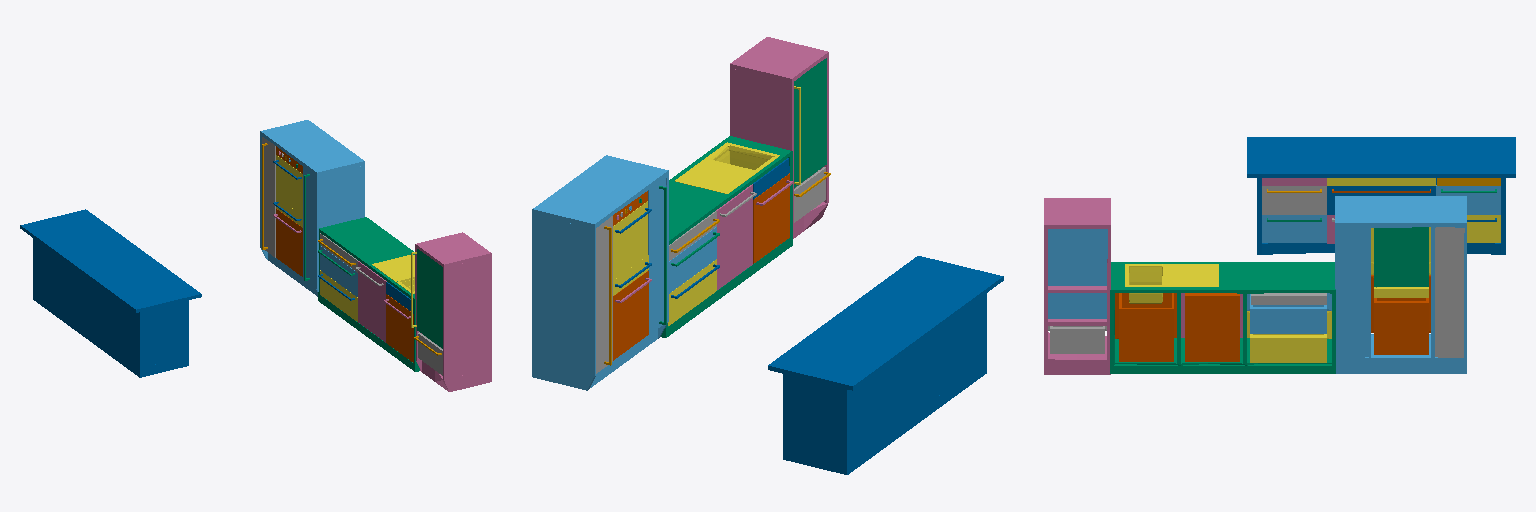
--- Render facts (derived) ---
Views: 3 orthographic renders of the robot side by side, from view 1: azimuth 30°, elevation 25°; view 2: azimuth 150°, elevation 25°; view 3: azimuth 270°, elevation 25°.
Robot: iai_oven_area — 60 links, 59 joints (8 revolute, 15 prismatic, 36 fixed); root link room_link; default pose: all joints at 0.
Links seen in each view (by area): view 1: kitchen_island, fridge_area, oven_area_area, sink_area, iai_fridge_door, sink_area_dish_washer_door, oven_area_area_left_drawer_main, sink_area_trash_drawer_main, oven_area_area_middle_lower_drawer_main, oven_area_area_right_drawer_main, oven_area_oven_door, sink_area_left_middle_drawer_main (+3 smaller); view 2: kitchen_island, oven_area_area, fridge_area, sink_area, iai_fridge_door, sink_area_sink, sink_area_dish_washer_door, sink_area_trash_drawer_main, oven_area_area_middle_lower_drawer_main, oven_area_area_right_drawer_main, oven_area_area_left_drawer_main, oven_area_oven_door (+5 smaller); view 3: kitchen_island, sink_area, oven_area_area, fridge_area, iai_fridge_main, oven_area_area_right_drawer_main, sink_area_dish_washer_main, oven_area_area_left_drawer_main, sink_area_trash_drawer_main, oven_area_area_middle_lower_drawer_main, oven_area_oven_main, sink_area_sink (+11 smaller).
Link boxes in pixels (x1,y1,x2,y2): kitchen_island: (20, 209, 201, 377); fridge_area: (415, 232, 491, 391); oven_area_area: (260, 120, 364, 296); sink_area: (318, 217, 419, 371); iai_fridge_door: (417, 249, 442, 348); sink_area_dish_washer_door: (358, 261, 386, 342); oven_area_area_left_drawer_main: (262, 137, 275, 257); sink_area_trash_drawer_main: (386, 294, 413, 362); oven_area_area_middle_lower_drawer_main: (276, 209, 302, 276); oven_area_area_right_drawer_main: (303, 167, 315, 286); oven_area_oven_door: (276, 155, 302, 215); sink_area_left_middle_drawer_main: (320, 246, 357, 296); kitchen_island: (768, 256, 1003, 474); oven_area_area: (532, 155, 668, 390); fridge_area: (730, 37, 828, 238); sink_area: (661, 136, 792, 337); iai_fridge_door: (794, 58, 826, 187); sink_area_sink: (675, 142, 779, 193); sink_area_dish_washer_door: (716, 184, 752, 289); sink_area_trash_drawer_main: (753, 173, 789, 263); oven_area_area_middle_lower_drawer_main: (613, 271, 648, 360); oven_area_area_right_drawer_main: (648, 178, 665, 334); oven_area_area_left_drawer_main: (596, 216, 612, 373); oven_area_oven_door: (613, 201, 647, 280); kitchen_island: (1247, 137, 1515, 254); sink_area: (1110, 262, 1335, 373); oven_area_area: (1335, 196, 1466, 373); fridge_area: (1044, 198, 1110, 374); iai_fridge_main: (1048, 229, 1107, 318); oven_area_area_right_drawer_main: (1338, 228, 1368, 357); sink_area_dish_washer_main: (1185, 293, 1239, 361); oven_area_area_left_drawer_main: (1435, 227, 1464, 357); sink_area_trash_drawer_main: (1115, 293, 1176, 361); oven_area_area_middle_lower_drawer_main: (1371, 275, 1430, 354); oven_area_oven_main: (1374, 227, 1428, 286); sink_area_sink: (1125, 264, 1218, 303).
Size in the robot's own frame: 3.3 by 4.31 by 1.53 metres.
55 mesh visuals loaded from 28 distinct referenced files (28 OBJ).

robot.urdf — iai_oven_area:
<?xml version="1.0" ?>
<!-- =================================================================================== -->
<!-- |    This document was autogenerated by xacro from IAI_kitchen.urdf.xacro         | -->
<!-- |    EDITING THIS FILE BY HAND IS NOT RECOMMENDED                                 | -->
<!-- =================================================================================== -->
<robot name="iai_oven_area" xmlns:xacro="http://ros.org/wiki/xacro">
  <link name="room_link">    
  </link>
  <!--- FIXME THIS should NOT be here -->
  <link name="sink_area_footprint">
    <sphere_inertia mass="0" radius="0"/>
  </link>
  <link name="sink_area">
    <sphere_inertia mass="0" radius="0"/>
    <visual>
      <origin rpy="0 0 0" xyz="0 0 0"/>
      <geometry>
        <mesh filename="package://iai_kitchen/meshes/racks/SinkArea.obj"/>
      </geometry>
    </visual>
  </link>
  <joint name="sink_area_footprint_joint" type="fixed">
    <origin rpy="0 0 3.14159265359" xyz="1.825 1.3 0"/>
    <child link="sink_area_footprint"/>
    <parent link="room_link"/>
  </joint>
  <joint name="sink_area_main_joint" type="fixed">
    <origin rpy="0 0 0" xyz="0.29 1.03 0.41"/>
    <parent link="sink_area_footprint"/>
    <child link="sink_area"/>
  </joint>
  <link name="sink_area_sink">
    <sphere_inertia mass="0" radius="0"/>
    <visual>
      <origin rpy="0 0 0" xyz="0 0 0"/>
      <geometry>
        <mesh filename="package://iai_kitchen/meshes/misc/Sink.obj"/>
      </geometry>
    </visual>
  </link>
  <joint name="sink_area_sink_joint" type="fixed">
    <origin rpy="0 0 0" xyz="0.005 0.47 0.4414"/>
    <parent link="sink_area"/>
    <child link="sink_area_sink"/>
  </joint>
  <link name="sink_area_right_panel">
    <sphere_inertia mass="0" radius="0"/>
    <visual>
      <origin rpy="0 0 0" xyz="0 0 0"/>
      <geometry>
        <mesh filename="package://iai_kitchen/meshes/drawers/Panel_60.obj"/>
      </geometry>
    </visual>
  </link>
  <joint name="sink_area_right_panel_joint" type="fixed">
    <origin rpy="0 0 0" xyz="0.28 0.7 0.325 "/>
    <parent link="sink_area"/>
    <child link="sink_area_right_panel"/>
  </joint>
  <link name="sink_area_trash_drawer_main">
    <sphere_inertia mass="0" radius="0"/>
    <visual>
      <origin rpy="0 0 0" xyz="0 0 0"/>
      <geometry>
        <mesh filename="package://iai_kitchen/meshes/drawers/Drawer_60_58.obj"/>
      </geometry>
    </visual>
  </link>
  <link name="sink_area_trash_drawer_handle">
    <sphere_inertia mass="0" radius="0"/>
    <visual>
      <origin rpy="0 0 0" xyz="0 0 0"/>
      <geometry>
        <mesh filename="package://iai_kitchen/meshes/handles/Handle60.obj"/>
      </geometry>
    </visual>
  </link>
  <joint name="sink_area_trash_drawer_main_joint" type="prismatic">
    <origin rpy="0 0 0" xyz="0.01 0.7 -0.035 "/>
    <parent link="sink_area"/>
    <child link="sink_area_trash_drawer_main"/>
    <axis xyz="1. 0. 0.0"/>
    <limit effort="300" lower="0" upper="0.48" velocity="10"/>
  </joint>
  <joint name="sink_area_trash_drawer_handle_joint" type="fixed">
    <origin rpy="0 0 0" xyz="0.3325 0 0.2375"/>
    <parent link="sink_area_trash_drawer_main"/>
    <child link="sink_area_trash_drawer_handle"/>
    <axis xyz="0 0 1"/>
    <limit effort="300" lower="0" upper="1.57079632679" velocity="10"/>
  </joint>
  <link name="sink_area_left_upper_drawer_main">
    <sphere_inertia mass="0" radius="0"/>
    <visual>
      <origin rpy="0 0 0" xyz="0 0 0"/>
      <geometry>
        <mesh filename="package://iai_kitchen/meshes/drawers/Drawer_80_14.obj"/>
      </geometry>
    </visual>
  </link>
  <link name="sink_area_left_upper_drawer_handle">
    <sphere_inertia mass="0" radius="0"/>
    <visual>
      <origin rpy="0 0 0" xyz="0 0 0"/>
      <geometry>
        <mesh filename="package://iai_kitchen/meshes/handles/Handle80.obj"/>
      </geometry>
    </visual>
  </link>
  <joint name="sink_area_left_upper_drawer_main_joint" type="prismatic">
    <origin rpy="0 0 0" xyz="0.01 -0.6 0.325 "/>
    <parent link="sink_area"/>
    <child link="sink_area_left_upper_drawer_main"/>
    <axis xyz="1. 0. 0.0"/>
    <limit effort="300" lower="0" upper="0.48" velocity="10"/>
  </joint>
  <joint name="sink_area_left_upper_drawer_handle_joint" type="fixed">
    <origin rpy="0 0 0" xyz="0.3325 0 0.0175"/>
    <parent link="sink_area_left_upper_drawer_main"/>
    <child link="sink_area_left_upper_drawer_handle"/>
    <axis xyz="0 0 1"/>
    <limit effort="300" lower="0" upper="1.57079632679" velocity="10"/>
  </joint>
  <link name="sink_area_left_middle_drawer_main">
    <sphere_inertia mass="0" radius="0"/>
    <visual>
      <origin rpy="0 0 0" xyz="0 0 0"/>
      <geometry>
        <mesh filename="package://iai_kitchen/meshes/drawers/Drawer_80_29.obj"/>
      </geometry>
    </visual>
  </link>
  <link name="sink_area_left_middle_drawer_handle">
    <sphere_inertia mass="0" radius="0"/>
    <visual>
      <origin rpy="0 0 0" xyz="0 0 0"/>
      <geometry>
        <mesh filename="package://iai_kitchen/meshes/handles/Handle80.obj"/>
      </geometry>
    </visual>
  </link>
  <joint name="sink_area_left_middle_drawer_main_joint" type="prismatic">
    <origin rpy="0 0 0" xyz="0.01 -0.6 0.11 "/>
    <parent link="sink_area"/>
    <child link="sink_area_left_middle_drawer_main"/>
    <axis xyz="1. 0. 0.0"/>
    <limit effort="300" lower="0" upper="0.48" velocity="10"/>
  </joint>
  <joint name="sink_area_left_middle_drawer_handle_joint" type="fixed">
    <origin rpy="0 0 0" xyz="0.3325 0 0.11"/>
    <parent link="sink_area_left_middle_drawer_main"/>
    <child link="sink_area_left_middle_drawer_handle"/>
    <axis xyz="0 0 1"/>
    <limit effort="300" lower="0" upper="1.57079632679" velocity="10"/>
  </joint>
  <link name="sink_area_left_bottom_drawer_main">
    <sphere_inertia mass="0" radius="0"/>
    <visual>
      <origin rpy="0 0 0" xyz="0 0 0"/>
      <geometry>
        <mesh filename="package://iai_kitchen/meshes/drawers/Drawer_80_29.obj"/>
      </geometry>
    </visual>
  </link>
  <link name="sink_area_left_bottom_drawer_handle">
    <sphere_inertia mass="0" radius="0"/>
    <visual>
      <origin rpy="0 0 0" xyz="0 0 0"/>
      <geometry>
        <mesh filename="package://iai_kitchen/meshes/handles/Handle80.obj"/>
      </geometry>
    </visual>
  </link>
  <joint name="sink_area_left_bottom_drawer_main_joint" type="prismatic">
    <origin rpy="0 0 0" xyz="0.01 -0.6 -0.18 "/>
    <parent link="sink_area"/>
    <child link="sink_area_left_bottom_drawer_main"/>
    <axis xyz="1. 0. 0.0"/>
    <limit effort="300" lower="0" upper="0.48" velocity="10"/>
  </joint>
  <joint name="sink_area_left_bottom_drawer_handle_joint" type="fixed">
    <origin rpy="0 0 0" xyz="0.3325 0 0.11"/>
    <parent link="sink_area_left_bottom_drawer_main"/>
    <child link="sink_area_left_bottom_drawer_handle"/>
    <axis xyz="0 0 1"/>
    <limit effort="300" lower="0" upper="1.57079632679" velocity="10"/>
  </joint>
  <link name="sink_area_dish_washer_main">
    <sphere_inertia mass="0" radius="0"/>
    <visual>
      <origin rpy="0 0 0" xyz="0 0 0"/>
      <geometry>
        <mesh filename="package://iai_kitchen/meshes/misc/DishWasher.obj"/>
      </geometry>
    </visual>
  </link>
  <link name="sink_area_dish_washer_door">
    <sphere_inertia mass="0" radius="0"/>
    <visual>
      <origin rpy="1.57079632679 0 0" xyz="0 0 0"/>
      <geometry>
        <mesh filename="package://iai_kitchen/meshes/misc/DishWasherDoor.obj"/>
      </geometry>
    </visual>
  </link>
  <link name="sink_area_dish_washer_door_handle">
    <sphere_inertia mass="0" radius="0"/>
    <visual>
      <origin rpy="0 0 0" xyz="0 0 0"/>
      <geometry>
        <mesh filename="package://iai_kitchen/meshes/handles/Handle60.obj"/>
      </geometry>
    </visual>
  </link>
  <joint name="sink_area_dish_washer_main_joint" type="fixed">
    <origin rpy="0 0 0" xyz="0.01 0.1 0.035 "/>
    <parent link="sink_area"/>
    <child link="sink_area_dish_washer_main"/>
  </joint>
  <joint name="sink_area_dish_washer_door_joint" type="revolute">
    <origin rpy="-1.57079632679 0 0" xyz="0.27 0. -0.325"/>
    <parent link="sink_area_dish_washer_main"/>
    <child link="sink_area_dish_washer_door"/>
    <axis xyz="0 0 1"/>
    <limit effort="300" lower="0" upper="1.57079632679" velocity="10"/>
  </joint>
  <joint name="sink_area_dish_washer_door_handle_joint" type="fixed">
    <origin rpy="-1.57079632679 0 0" xyz="0.0625 -0.6325 0."/>
    <parent link="sink_area_dish_washer_door"/>
    <child link="sink_area_dish_washer_door_handle"/>
  </joint>
  <link name="oven_area_area_footprint">
    <sphere_inertia mass="0" radius="0"/>
  </link>
  <link name="oven_area_area">
    <sphere_inertia mass="0" radius="0"/>
    <visual>
      <origin rpy="0 0 0" xyz="0 0 0"/>
      <geometry>
        <mesh filename="package://iai_kitchen/meshes/racks/OvenArea.obj"/>
      </geometry>
    </visual>
  </link>
  <joint name="oven_area_footprint_joint" type="fixed">
    <origin rpy="0 0 3.14159265359" xyz="1.805 2.5 0"/>
    <child link="oven_area_area_footprint"/>
    <parent link="room_link"/>
  </joint>
  <joint name="oven_area_main_joint" type="fixed">
    <origin rpy="0 0 0" xyz="0.29 0.6 0.755"/>
    <parent link="oven_area_area_footprint"/>
    <child link="oven_area_area"/>
  </joint>
  <link name="oven_area_oven_main">
    <sphere_inertia mass="0" radius="0"/>
    <visual>
      <origin rpy="0 0 0" xyz="0 0 0"/>
      <geometry>
        <mesh filename="package://iai_kitchen/meshes/oven/OvenMain.obj"/>
      </geometry>
    </visual>
  </link>
  <link name="oven_area_oven_door">
    <sphere_inertia mass="0" radius="0"/>
    <visual>
      <origin rpy="1.57079632679 0 0" xyz="0 0 0"/>
      <geometry>
        <mesh filename="package://iai_kitchen/meshes/oven/OvenDoor.obj"/>
      </geometry>
    </visual>
  </link>
  <link name="oven_area_oven_door_handle">
    <sphere_inertia mass="0" radius="0"/>
    <visual>
      <origin rpy="0 0 0" xyz="0 0 0"/>
      <geometry>
        <mesh filename="package://iai_kitchen/meshes/handles/Handle60.obj"/>
      </geometry>
    </visual>
  </link>
  <link name="oven_area_oven_panel">
    <sphere_inertia mass="0" radius="0"/>
    <visual>
      <origin rpy="0 0 0" xyz="0 0 0"/>
      <geometry>
        <mesh filename="package://iai_kitchen/meshes/oven/OvenPanel.obj"/>
      </geometry>
    </visual>
  </link>
  <joint name="oven_area_oven_main_joint" type="fixed">
    <origin rpy="0 0 0" xyz="0.0 0.0 0.415"/>
    <parent link="oven_area_area"/>
    <child link="oven_area_oven_main"/>
  </joint>
  <joint name="oven_area_oven_door_joint" type="revolute">
    <origin rpy="-1.57079632679 0 0" xyz="0.2737 0. -0.2614"/>
    <parent link="oven_area_oven_main"/>
    <child link="oven_area_oven_door"/>
    <axis xyz="0 0 1"/>
    <limit effort="300" lower="0" upper="1.57079632679" velocity="10"/>
  </joint>
  <joint name="oven_area_oven_door_handle_joint" type="fixed">
    <origin rpy="-1.57079632679 0 0" xyz="0.05876 -0.39803 0."/>
    <parent link="oven_area_oven_door"/>
    <child link="oven_area_oven_door_handle"/>
    <axis xyz="0 0 1"/>
    <limit effort="300" lower="0" upper="1.57079632679" velocity="10"/>
  </joint>
  <joint name="oven_area_oven_panel_joint" type="fixed">
    <origin rpy="0 0 0" xyz="0.27 0 0.2449"/>
    <parent link="oven_area_oven_main"/>
    <child link="oven_area_oven_panel"/>
  </joint>
  <link name="oven_area_oven_knob_stove_1">
    <sphere_inertia mass="0" radius="0"/>
    <visual>
      <origin rpy="0 1.57079632679 0" xyz="0 0 0"/>
      <geometry>
        <mesh filename="package://iai_kitchen/meshes/oven/Knob.obj"/>
      </geometry>
    </visual>
  </link>
  <joint name="oven_area_oven_knob_stove_1_joint" type="revolute">
    <origin rpy="0 -1.57079632679 0" xyz="0 -0.21 0"/>
    <parent link="oven_area_oven_panel"/>
    <child link="oven_area_oven_knob_stove_1"/>
    <axis xyz="0 0 1"/>
    <limit effort="300" lower="0" upper="3.14159265359" velocity="10"/>
  </joint>
  <link name="oven_area_oven_knob_stove_2">
    <sphere_inertia mass="0" radius="0"/>
    <visual>
      <origin rpy="0 1.57079632679 0" xyz="0 0 0"/>
      <geometry>
        <mesh filename="package://iai_kitchen/meshes/oven/Knob.obj"/>
      </geometry>
    </visual>
  </link>
  <joint name="oven_area_oven_knob_stove_2_joint" type="revolute">
    <origin rpy="0 -1.57079632679 0" xyz="0 -0.14 0"/>
    <parent link="oven_area_oven_panel"/>
    <child link="oven_area_oven_knob_stove_2"/>
    <axis xyz="0 0 1"/>
    <limit effort="300" lower="0" upper="3.14159265359" velocity="10"/>
  </joint>
  <link name="oven_area_oven_knob_stove_3">
    <sphere_inertia mass="0" radius="0"/>
    <visual>
      <origin rpy="0 1.57079632679 0" xyz="0 0 0"/>
      <geometry>
        <mesh filename="package://iai_kitchen/meshes/oven/Knob.obj"/>
      </geometry>
    </visual>
  </link>
  <joint name="oven_area_oven_knob_stove_3_joint" type="revolute">
    <origin rpy="0 -1.57079632679 0" xyz="0 -0.07 0"/>
    <parent link="oven_area_oven_panel"/>
    <child link="oven_area_oven_knob_stove_3"/>
    <axis xyz="0 0 1"/>
    <limit effort="300" lower="0" upper="3.14159265359" velocity="10"/>
  </joint>
  <link name="oven_area_oven_knob_stove_4">
    <sphere_inertia mass="0" radius="0"/>
    <visual>
      <origin rpy="0 1.57079632679 0" xyz="0 0 0"/>
      <geometry>
        <mesh filename="package://iai_kitchen/meshes/oven/Knob.obj"/>
      </geometry>
    </visual>
  </link>
  <joint name="oven_area_oven_knob_stove_4_joint" type="revolute">
    <origin rpy="0 -1.57079632679 0" xyz="0 -0.0 0"/>
    <parent link="oven_area_oven_panel"/>
    <child link="oven_area_oven_knob_stove_4"/>
    <axis xyz="0 0 1"/>
    <limit effort="300" lower="0" upper="3.14159265359" velocity="10"/>
  </joint>
  <link name="oven_area_oven_knob_oven">
    <sphere_inertia mass="0" radius="0"/>
    <visual>
      <origin rpy="0 1.57079632679 0" xyz="0 0 0"/>
      <geometry>
        <mesh filename="package://iai_kitchen/meshes/oven/Knob.obj"/>
      </geometry>
    </visual>
  </link>
  <joint name="oven_area_oven_knob_oven_joint" type="revolute">
    <origin rpy="0 -1.57079632679 0" xyz="0 0.16 0"/>
    <parent link="oven_area_oven_panel"/>
    <child link="oven_area_oven_knob_oven"/>
    <axis xyz="0 0 1"/>
    <limit effort="300" lower="0" upper="3.14159265359" velocity="10"/>
  </joint>
  <link name="oven_area_area_middle_upper_drawer_main">
    <sphere_inertia mass="0" radius="0"/>
    <visual>
      <origin rpy="0 0 0" xyz="0 0 0"/>
      <geometry>
        <mesh filename="package://iai_kitchen/meshes/drawers/Drawer_60_14.obj"/>
      </geometry>
    </visual>
  </link>
  <link name="oven_area_area_middle_upper_drawer_handle">
    <sphere_inertia mass="0" radius="0"/>
    <visual>
      <origin rpy="0 0 0" xyz="0 0 0"/>
      <geometry>
        <mesh filename="package://iai_kitchen/meshes/handles/Handle60.obj"/>
      </geometry>
    </visual>
  </link>
  <joint name="oven_area_area_middle_upper_drawer_main_joint" type="prismatic">
    <origin rpy="0 0 0" xyz="0.0 -0. 0.045 "/>
    <parent link="oven_area_area"/>
    <child link="oven_area_area_middle_upper_drawer_main"/>
    <axis xyz="1. 0. 0.0"/>
    <limit effort="300" lower="0" upper="0.48" velocity="10"/>
  </joint>
  <joint name="oven_area_area_middle_upper_drawer_handle_joint" type="fixed">
    <origin rpy="0 0 0" xyz="0.3325 0 0.0175"/>
    <parent link="oven_area_area_middle_upper_drawer_main"/>
    <child link="oven_area_area_middle_upper_drawer_handle"/>
    <axis xyz="0 0 1"/>
    <limit effort="300" lower="0" upper="1.57079632679" velocity="10"/>
  </joint>
  <link name="oven_area_area_middle_lower_drawer_main">
    <sphere_inertia mass="0" radius="0"/>
    <visual>
      <origin rpy="0 0 0" xyz="0 0 0"/>
      <geometry>
        <mesh filename="package://iai_kitchen/meshes/drawers/Drawer_60_58.obj"/>
      </geometry>
    </visual>
  </link>
  <link name="oven_area_area_middle_lower_drawer_handle">
    <sphere_inertia mass="0" radius="0"/>
    <visual>
      <origin rpy="0 0 0" xyz="0 0 0"/>
      <geometry>
        <mesh filename="package://iai_kitchen/meshes/handles/Handle60.obj"/>
      </geometry>
    </visual>
  </link>
  <joint name="oven_area_area_middle_lower_drawer_main_joint" type="prismatic">
    <origin rpy="0 0 0" xyz="0.0 -0. -0.315 "/>
    <parent link="oven_area_area"/>
    <child link="oven_area_area_middle_lower_drawer_main"/>
    <axis xyz="1. 0. 0.0"/>
    <limit effort="300" lower="0" upper="0.48" velocity="10"/>
  </joint>
  <joint name="oven_area_area_middle_lower_drawer_handle_joint" type="fixed">
    <origin rpy="0 0 0" xyz="0.3325 0 0.2375"/>
    <parent link="oven_area_area_middle_lower_drawer_main"/>
    <child link="oven_area_area_middle_lower_drawer_handle"/>
    <axis xyz="0 0 1"/>
    <limit effort="300" lower="0" upper="1.57079632679" velocity="10"/>
  </joint>
  <link name="oven_area_area_left_drawer_main">
    <sphere_inertia mass="0" radius="0"/>
    <visual>
      <origin rpy="0 0 0" xyz="0 0 0"/>
      <geometry>
        <mesh filename="package://iai_kitchen/meshes/drawers/VDrawer.obj"/>
      </geometry>
    </visual>
  </link>
  <link name="oven_area_area_left_drawer_handle">
    <sphere_inertia mass="0" radius="0"/>
    <visual>
      <origin rpy="0 0 0" xyz="0 0 0"/>
      <geometry>
        <mesh filename="package://iai_kitchen/meshes/handles/VHandle130.obj"/>
      </geometry>
    </visual>
  </link>
  <joint name="oven_area_area_left_drawer_main_joint" type="prismatic">
    <origin rpy="0 0 0" xyz="0.0 -0.45 0.06 "/>
    <parent link="oven_area_area"/>
    <child link="oven_area_area_left_drawer_main"/>
    <axis xyz="1. 0. 0.0"/>
    <limit effort="300" lower="0" upper="0.48" velocity="10"/>
  </joint>
  <joint name="oven_area_area_left_drawer_handle_joint" type="fixed">
    <origin rpy="0 0 0" xyz="0.3525 0 0"/>
    <parent link="oven_area_area_left_drawer_main"/>
    <child link="oven_area_area_left_drawer_handle"/>
    <axis xyz="0 0 1"/>
    <limit effort="300" lower="0" upper="1.57079632679" velocity="10"/>
  </joint>
  <link name="oven_area_area_right_drawer_main">
    <sphere_inertia mass="0" radius="0"/>
    <visual>
      <origin rpy="0 0 0" xyz="0 0 0"/>
      <geometry>
        <mesh filename="package://iai_kitchen/meshes/drawers/VDrawer.obj"/>
      </geometry>
    </visual>
  </link>
  <link name="oven_area_area_right_drawer_handle">
    <sphere_inertia mass="0" radius="0"/>
    <visual>
      <origin rpy="0 0 0" xyz="0 0 0"/>
      <geometry>
        <mesh filename="package://iai_kitchen/meshes/handles/VHandle130.obj"/>
      </geometry>
    </visual>
  </link>
  <joint name="oven_area_area_right_drawer_main_joint" type="prismatic">
    <origin rpy="0 0 0" xyz="0.0 0.45 0.06 "/>
    <parent link="oven_area_area"/>
    <child link="oven_area_area_right_drawer_main"/>
    <axis xyz="1. 0. 0.0"/>
    <limit effort="300" lower="0" upper="0.48" velocity="10"/>
  </joint>
  <joint name="oven_area_area_right_drawer_handle_joint" type="fixed">
    <origin rpy="0 0 0" xyz="0.3525 0 0"/>
    <parent link="oven_area_area_right_drawer_main"/>
    <child link="oven_area_area_right_drawer_handle"/>
    <axis xyz="0 0 1"/>
    <limit effort="300" lower="0" upper="1.57079632679" velocity="10"/>
  </joint>
  <link name="kitchen_island_footprint">
    <sphere_inertia mass="0" radius="0"/>
  </link>
  <link name="kitchen_island">
    <sphere_inertia mass="0" radius="0"/>
    <visual>
      <origin rpy="0 0 0" xyz="0 0 0"/>
      <geometry>
        <mesh filename="package://iai_kitchen/meshes/racks/IslandArea.obj"/>
      </geometry>
    </visual>
  </link>
  <joint name="kitchen_island_footprint_joint" type="fixed">
    <origin rpy="0 0 0" xyz="-1.365 0.59 0"/>
    <child link="kitchen_island_footprint"/>
    <parent link="room_link"/>
  </joint>
  <joint name="kitchen_island_joint" type="fixed">
    <origin rpy="0 0 0" xyz="0.2975 1.1292 0.421"/>
    <parent link="kitchen_island_footprint"/>
    <child link="kitchen_island"/>
  </joint>
  <link name="kitchen_island_stove">
    <sphere_inertia mass="0" radius="0"/>
    <visual>
      <origin rpy="0 0 0" xyz="0 0 0"/>
      <geometry>
        <mesh filename="package://iai_kitchen/meshes/misc/Stove.obj"/>
      </geometry>
    </visual>
  </link>
  <joint name="kitchen_island_stove_joint" type="fixed">
    <origin rpy="0 0 0" xyz="0.025 0.7658 0.4315"/>
    <parent link="kitchen_island"/>
    <child link="kitchen_island_stove"/>
  </joint>
  <link name="kitchen_island_left_panel">
    <sphere_inertia mass="0" radius="0"/>
    <visual>
      <origin rpy="0 0 0" xyz="0 0 0"/>
      <geometry>
        <mesh filename="package://iai_kitchen/meshes/drawers/Panel_60.obj"/>
      </geometry>
    </visual>
  </link>
  <joint name="kitchen_island_left_panel_joint" type="fixed">
    <origin rpy="0 0 0" xyz="0.2725 -0.8 0.329 "/>
    <parent link="kitchen_island"/>
    <child link="kitchen_island_left_panel"/>
  </joint>
  <link name="kitchen_island_left_upper_drawer_main">
    <sphere_inertia mass="0" radius="0"/>
    <visual>
      <origin rpy="0 0 0" xyz="0 0 0"/>
      <geometry>
        <mesh filename="package://iai_kitchen/meshes/drawers/Drawer_60_29.obj"/>
      </geometry>
    </visual>
  </link>
  <link name="kitchen_island_left_upper_drawer_handle">
    <sphere_inertia mass="0" radius="0"/>
    <visual>
      <origin rpy="0 0 0" xyz="0 0 0"/>
      <geometry>
        <mesh filename="package://iai_kitchen/meshes/handles/Handle60.obj"/>
      </geometry>
    </visual>
  </link>
  <joint name="kitchen_island_left_upper_drawer_main_joint" type="prismatic">
    <origin rpy="0 0 0" xyz="0.0025 -0.8 0.114 "/>
    <parent link="kitchen_island"/>
    <child link="kitchen_island_left_upper_drawer_main"/>
    <axis xyz="1. 0. 0.0"/>
    <limit effort="300" lower="0" upper="0.48" velocity="10"/>
  </joint>
  <joint name="kitchen_island_left_upper_drawer_handle_joint" type="fixed">
    <origin rpy="0 0 0" xyz="0.3325 0 0.11"/>
    <parent link="kitchen_island_left_upper_drawer_main"/>
    <child link="kitchen_island_left_upper_drawer_handle"/>
    <axis xyz="0 0 1"/>
    <limit effort="300" lower="0" upper="1.57079632679" velocity="10"/>
  </joint>
  <link name="kitchen_island_left_lower_drawer_main">
    <sphere_inertia mass="0" radius="0"/>
    <visual>
      <origin rpy="0 0 0" xyz="0 0 0"/>
      <geometry>
        <mesh filename="package://iai_kitchen/meshes/drawers/Drawer_60_29.obj"/>
      </geometry>
    </visual>
  </link>
  <link name="kitchen_island_left_lower_drawer_handle">
    <sphere_inertia mass="0" radius="0"/>
    <visual>
      <origin rpy="0 0 0" xyz="0 0 0"/>
      <geometry>
        <mesh filename="package://iai_kitchen/meshes/handles/Handle60.obj"/>
      </geometry>
    </visual>
  </link>
  <joint name="kitchen_island_left_lower_drawer_main_joint" type="prismatic">
    <origin rpy="0 0 0" xyz="0.0025 -0.8 -0.176 "/>
    <parent link="kitchen_island"/>
    <child link="kitchen_island_left_lower_drawer_main"/>
    <axis xyz="1. 0. 0.0"/>
    <limit effort="300" lower="0" upper="0.48" velocity="10"/>
  </joint>
  <joint name="kitchen_island_left_lower_drawer_handle_joint" type="fixed">
    <origin rpy="0 0 0" xyz="0.3325 0 0.11"/>
    <parent link="kitchen_island_left_lower_drawer_main"/>
    <child link="kitchen_island_left_lower_drawer_handle"/>
    <axis xyz="0 0 1"/>
    <limit effort="300" lower="0" upper="1.57079632679" velocity="10"/>
  </joint>
  <link name="kitchen_island_middle_panel">
    <sphere_inertia mass="0" radius="0"/>
    <visual>
      <origin rpy="0 0 0" xyz="0 0 0"/>
      <geometry>
        <mesh filename="package://iai_kitchen/meshes/drawers/Panel_100.obj"/>
      </geometry>
    </visual>
  </link>
  <joint name="kitchen_island_middle_panel_joint" type="fixed">
    <origin rpy="0 0 0" xyz="0.2725 0 0.329 "/>
    <parent link="kitchen_island"/>
    <child link="kitchen_island_middle_panel"/>
  </joint>
  <link name="kitchen_island_middle_upper_drawer_main">
    <sphere_inertia mass="0" radius="0"/>
    <visual>
      <origin rpy="0 0 0" xyz="0 0 0"/>
      <geometry>
        <mesh filename="package://iai_kitchen/meshes/drawers/Drawer_100_29.obj"/>
      </geometry>
    </visual>
  </link>
  <link name="kitchen_island_middle_upper_drawer_handle">
    <sphere_inertia mass="0" radius="0"/>
    <visual>
      <origin rpy="0 0 0" xyz="0 0 0"/>
      <geometry>
        <mesh filename="package://iai_kitchen/meshes/handles/Handle100.obj"/>
      </geometry>
    </visual>
  </link>
  <joint name="kitchen_island_middle_upper_drawer_main_joint" type="prismatic">
    <origin rpy="0 0 0" xyz="0.0025 0 0.114 "/>
    <parent link="kitchen_island"/>
    <child link="kitchen_island_middle_upper_drawer_main"/>
    <axis xyz="1. 0. 0.0"/>
    <limit effort="300" lower="0" upper="0.48" velocity="10"/>
  </joint>
  <joint name="kitchen_island_middle_upper_drawer_handle_joint" type="fixed">
    <origin rpy="0 0 0" xyz="0.3325 0 0.11"/>
    <parent link="kitchen_island_middle_upper_drawer_main"/>
    <child link="kitchen_island_middle_upper_drawer_handle"/>
    <axis xyz="0 0 1"/>
    <limit effort="300" lower="0" upper="1.57079632679" velocity="10"/>
  </joint>
  <link name="kitchen_island_middle_lower_drawer_main">
    <sphere_inertia mass="0" radius="0"/>
    <visual>
      <origin rpy="0 0 0" xyz="0 0 0"/>
      <geometry>
        <mesh filename="package://iai_kitchen/meshes/drawers/Drawer_100_29.obj"/>
      </geometry>
    </visual>
  </link>
  <link name="kitchen_island_middle_lower_drawer_handle">
    <sphere_inertia mass="0" radius="0"/>
    <visual>
      <origin rpy="0 0 0" xyz="0 0 0"/>
      <geometry>
        <mesh filename="package://iai_kitchen/meshes/handles/Handle100.obj"/>
      </geometry>
    </visual>
  </link>
  <joint name="kitchen_island_middle_lower_drawer_main_joint" type="prismatic">
    <origin rpy="0 0 0" xyz="0.0025 0 -0.176 "/>
    <parent link="kitchen_island"/>
    <child link="kitchen_island_middle_lower_drawer_main"/>
    <axis xyz="1. 0. 0.0"/>
    <limit effort="300" lower="0" upper="0.48" velocity="10"/>
  </joint>
  <joint name="kitchen_island_middle_lower_drawer_handle_joint" type="fixed">
    <origin rpy="0 0 0" xyz="0.3325 0 0.11"/>
    <parent link="kitchen_island_middle_lower_drawer_main"/>
    <child link="kitchen_island_middle_lower_drawer_handle"/>
    <axis xyz="0 0 1"/>
    <limit effort="300" lower="0" upper="1.57079632679" velocity="10"/>
  </joint>
  <link name="kitchen_island_right_panel">
    <sphere_inertia mass="0" radius="0"/>
    <visual>
      <origin rpy="0 0 0" xyz="0 0 0"/>
      <geometry>
        <mesh filename="package://iai_kitchen/meshes/drawers/Panel_60.obj"/>
      </geometry>
    </visual>
  </link>
  <joint name="kitchen_island_right_panel_joint" type="fixed">
    <origin rpy="0 0 0" xyz="0.2725 0.8 0.329 "/>
    <parent link="kitchen_island"/>
    <child link="kitchen_island_right_panel"/>
  </joint>
  <link name="kitchen_island_right_upper_drawer_main">
    <sphere_inertia mass="0" radius="0"/>
    <visual>
      <origin rpy="0 0 0" xyz="0 0 0"/>
      <geometry>
        <mesh filename="package://iai_kitchen/meshes/drawers/Drawer_60_29.obj"/>
      </geometry>
    </visual>
  </link>
  <link name="kitchen_island_right_upper_drawer_handle">
    <sphere_inertia mass="0" radius="0"/>
    <visual>
      <origin rpy="0 0 0" xyz="0 0 0"/>
      <geometry>
        <mesh filename="package://iai_kitchen/meshes/handles/Handle60.obj"/>
      </geometry>
    </visual>
  </link>
  <joint name="kitchen_island_right_upper_drawer_main_joint" type="prismatic">
    <origin rpy="0 0 0" xyz="0.0025 0.8 0.114 "/>
    <parent link="kitchen_island"/>
    <child link="kitchen_island_right_upper_drawer_main"/>
    <axis xyz="1. 0. 0.0"/>
    <limit effort="300" lower="0" upper="0.48" velocity="10"/>
  </joint>
  <joint name="kitchen_island_right_upper_drawer_handle_joint" type="fixed">
    <origin rpy="0 0 0" xyz="0.3325 0 0.11"/>
    <parent link="kitchen_island_right_upper_drawer_main"/>
    <child link="kitchen_island_right_upper_drawer_handle"/>
    <axis xyz="0 0 1"/>
    <limit effort="300" lower="0" upper="1.57079632679" velocity="10"/>
  </joint>
  <link name="kitchen_island_right_lower_drawer_main">
    <sphere_inertia mass="0" radius="0"/>
    <visual>
      <origin rpy="0 0 0" xyz="0 0 0"/>
      <geometry>
        <mesh filename="package://iai_kitchen/meshes/drawers/Drawer_60_29.obj"/>
      </geometry>
    </visual>
  </link>
  <link name="kitchen_island_right_lower_drawer_handle">
    <sphere_inertia mass="0" radius="0"/>
    <visual>
      <origin rpy="0 0 0" xyz="0 0 0"/>
      <geometry>
        <mesh filename="package://iai_kitchen/meshes/handles/Handle60.obj"/>
      </geometry>
    </visual>
  </link>
  <joint name="kitchen_island_right_lower_drawer_main_joint" type="prismatic">
    <origin rpy="0 0 0" xyz="0.0025 0.8 -0.176 "/>
    <parent link="kitchen_island"/>
    <child link="kitchen_island_right_lower_drawer_main"/>
    <axis xyz="1. 0. 0.0"/>
    <limit effort="300" lower="0" upper="0.48" velocity="10"/>
  </joint>
  <joint name="kitchen_island_right_lower_drawer_handle_joint" type="fixed">
    <origin rpy="0 0 0" xyz="0.3325 0 0.11"/>
    <parent link="kitchen_island_right_lower_drawer_main"/>
    <child link="kitchen_island_right_lower_drawer_handle"/>
    <axis xyz="0 0 1"/>
    <limit effort="300" lower="0" upper="1.57079632679" velocity="10"/>
  </joint>
  <link name="fridge_area_footprint">
    <sphere_inertia mass="0" radius="0"/>
  </link>
  <link name="fridge_area">
    <sphere_inertia mass="0" radius="0"/>
    <visual>
      <origin rpy="0 0 0" xyz="0 0 0"/>
      <geometry>
        <mesh filename="package://iai_kitchen/meshes/racks/FridgeArea.obj"/>
      </geometry>
    </visual>
  </link>
  <joint name="fridge_area_footprint_joint" type="fixed">
    <origin rpy="0 0 3.14159265359" xyz="1.825 -0.76 0"/>
    <child link="fridge_area_footprint"/>
    <parent link="room_link"/>
  </joint>
  <joint name="fridge_area_main_joint" type="fixed">
    <origin rpy="0 0 0" xyz="0.29 0.3 0.74"/>
    <parent link="fridge_area_footprint"/>
    <child link="fridge_area"/>
  </joint>
  <link name="fridge_area_lower_drawer_main">
    <sphere_inertia mass="0" radius="0"/>
    <visual>
      <origin rpy="0 0 0" xyz="0 0 0"/>
      <geometry>
        <mesh filename="package://iai_kitchen/meshes/drawers/Drawer_60_29.obj"/>
      </geometry>
    </visual>
  </link>
  <link name="fridge_area_lower_drawer_handle">
    <sphere_inertia mass="0" radius="0"/>
    <visual>
      <origin rpy="0 0 0" xyz="0 0 0"/>
      <geometry>
        <mesh filename="package://iai_kitchen/meshes/handles/Handle60.obj"/>
      </geometry>
    </visual>
  </link>
  <joint name="fridge_area_lower_drawer_main_joint" type="prismatic">
    <origin rpy="0 0 0" xyz="0.0 -0.0 -0.4175 "/>
    <parent link="fridge_area"/>
    <child link="fridge_area_lower_drawer_main"/>
    <axis xyz="1. 0. 0.0"/>
    <limit effort="300" lower="0" upper="0.48" velocity="10"/>
  </joint>
  <joint name="fridge_area_lower_drawer_handle_joint" type="fixed">
    <origin rpy="0 0 0" xyz="0.3325 0 0.11"/>
    <parent link="fridge_area_lower_drawer_main"/>
    <child link="fridge_area_lower_drawer_handle"/>
    <axis xyz="0 0 1"/>
    <limit effort="300" lower="0" upper="1.57079632679" velocity="10"/>
  </joint>
  <link name="iai_fridge_main">
    <sphere_inertia mass="0" radius="0"/>
    <visual>
      <origin rpy="0 0 0" xyz="0 0 0"/>
      <geometry>
        <mesh filename="package://iai_kitchen/meshes/misc/Fridge.obj"/>
      </geometry>
    </visual>
  </link>
  <link name="iai_fridge_door">
    <sphere_inertia mass="0" radius="0"/>
    <visual>
      <origin rpy="0 0 0" xyz="0 0 0"/>
      <geometry>
        <mesh filename="package://iai_kitchen/meshes/misc/FridgeDoor.obj"/>
      </geometry>
    </visual>
  </link>
  <link name="iai_fridge_door_handle">
    <sphere_inertia mass="0" radius="0"/>
    <visual>
      <origin rpy="0 0 0" xyz="0 0 0"/>
      <geometry>
        <mesh filename="package://iai_kitchen/meshes/handles/VHandle90.obj"/>
      </geometry>
    </visual>
  </link>
  <joint name="iai_fridge_main_joint" type="fixed">
    <origin rpy="0 0 0" xyz="0 0 0"/>
    <parent link="fridge_area"/>
    <child link="iai_fridge_main"/>
  </joint>
  <joint name="iai_fridge_door_joint" type="revolute">
    <origin rpy="0 0 0" xyz="0.29 0.3 0.245"/>
    <parent link="iai_fridge_main"/>
    <child link="iai_fridge_door"/>
    <axis xyz="0 0 1"/>
    <limit effort="300" lower="0" upper="1.57079632679" velocity="10"/>
  </joint>
  <joint name="iai_fridge_door_handle_joint" type="fixed">
    <origin rpy="0 0 0" xyz="0.06 -0.57 0."/>
    <parent link="iai_fridge_door"/>
    <child link="iai_fridge_door_handle"/>
  </joint>
  <!--
  <iai_sink_area name="sink_area" parent="room_link">
    <origin xyz="-5.29 -5.65 0" rpy="0 0 0" />    
  </iai_sink_area>
  
  <iai_oven_area name="oven_area" parent="room_link">
    <origin xyz="-5.27 -6.85 0" rpy="0 0 0" />    
  </iai_oven_area>
  
  
  <iai_kitchen_island name="kitchen_island" parent="room_link">
    <origin xyz="-2.1 -4.94 0" rpy="0 0 ${pi}" />    
  </iai_kitchen_island>
  
  <iai_fridge_area name="fridge_area" parent="room_link">
    <origin xyz="-5.29 -3.59 0" rpy="0 0 0" />    
  </iai_fridge_area>
  -->
</robot>
